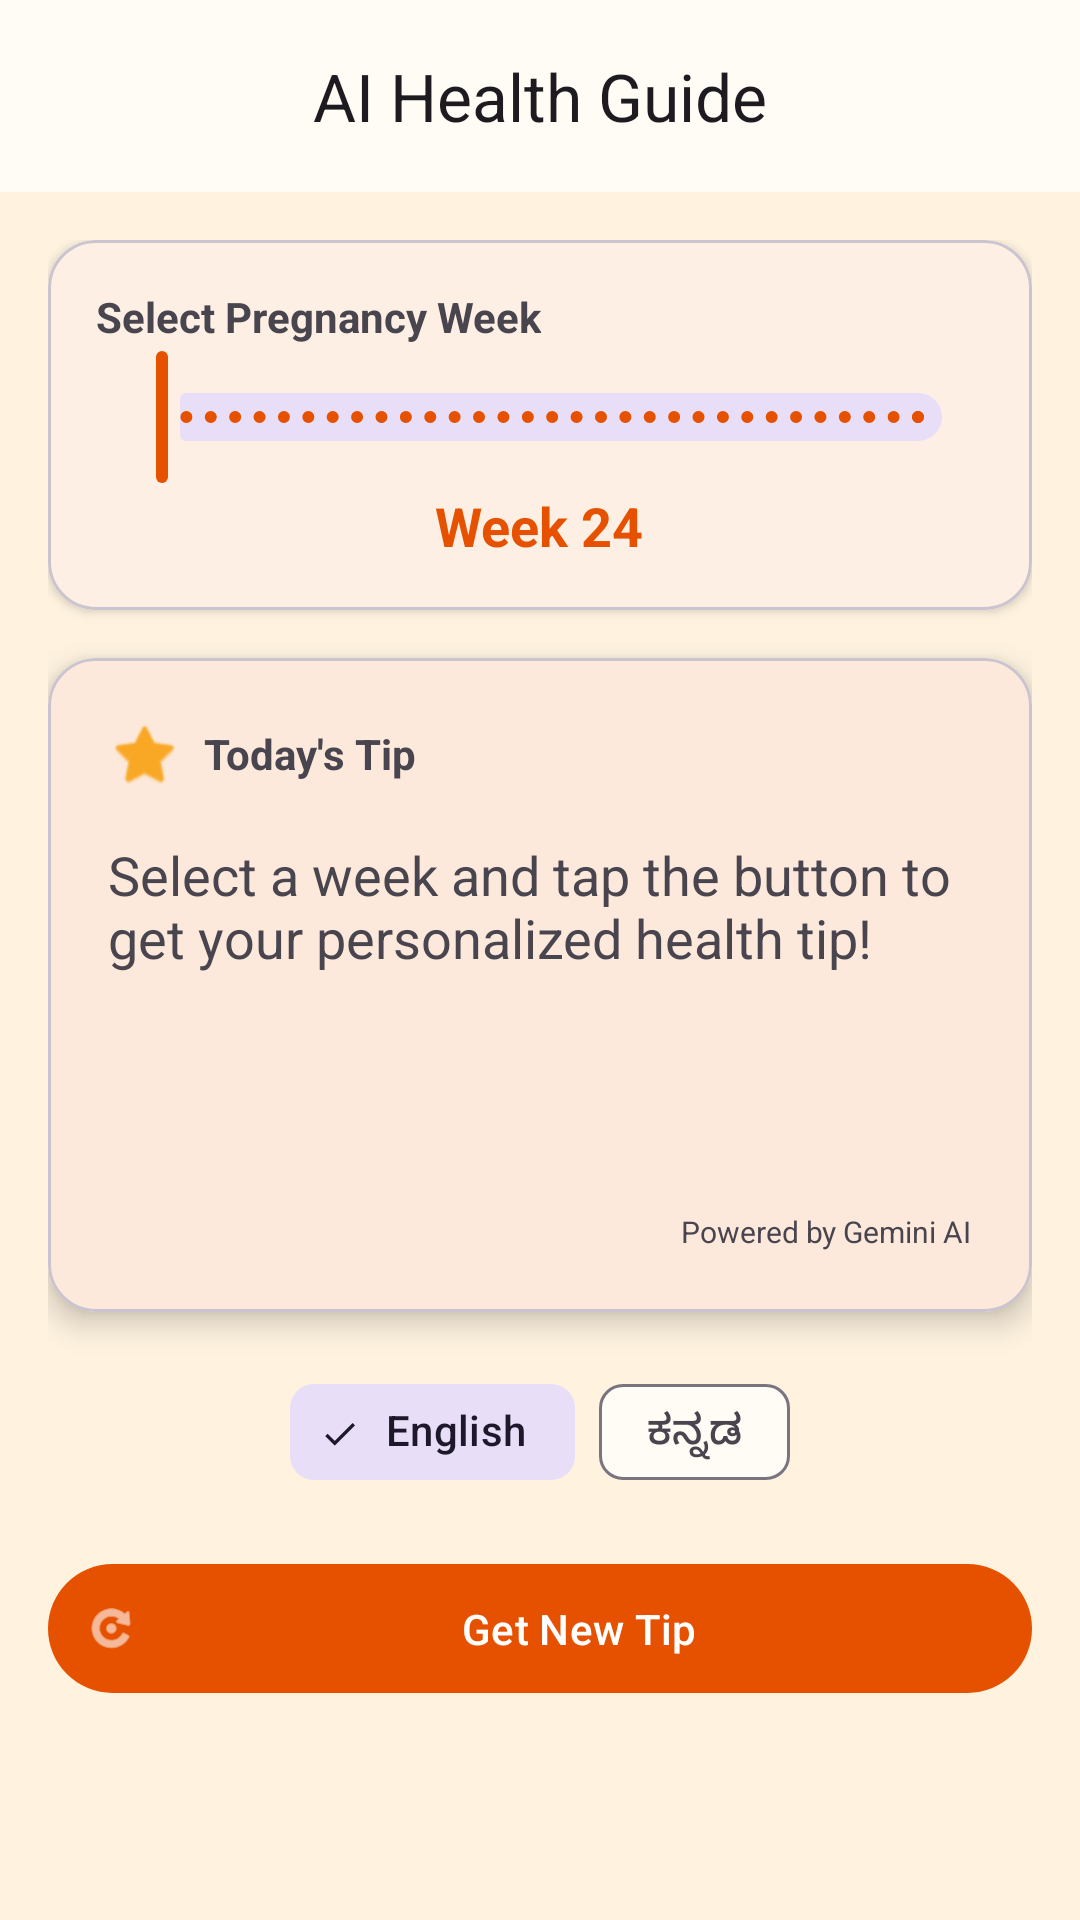

Screen size 1080px×1920px. Icon name, then its center in pixels as (x,y):
star on: (145,754)
